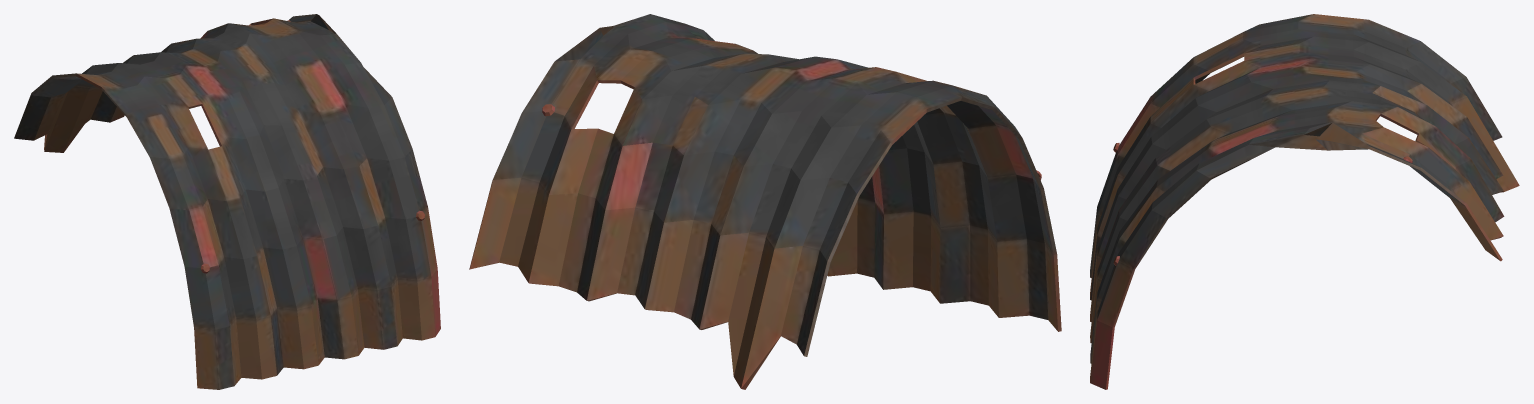
Rendered from BR21_bent_metal_sheet_v3.glb.
The picture shows the model from 3 angles, left to right: view 1: azimuth 30°, elevation 25°; view 2: azimuth 150°, elevation 25°; view 3: azimuth 270°, elevation 25°; orthographic projection. The views are drawn at different scales.
Parts seen in each view (by area): view 1: Bent_sheet_2; view 2: Bent_sheet_2; view 3: Bent_sheet_2.
Boxes of the visible parts, x1,y1,x2,y2 form: Bent_sheet_2: (14, 14, 440, 389); Bent_sheet_2: (469, 14, 1061, 389); Bent_sheet_2: (1090, 14, 1519, 389).
Bounding box in the file's own units: 1.06 × 0.998 × 1.5.
3 materials, 3 textured.
